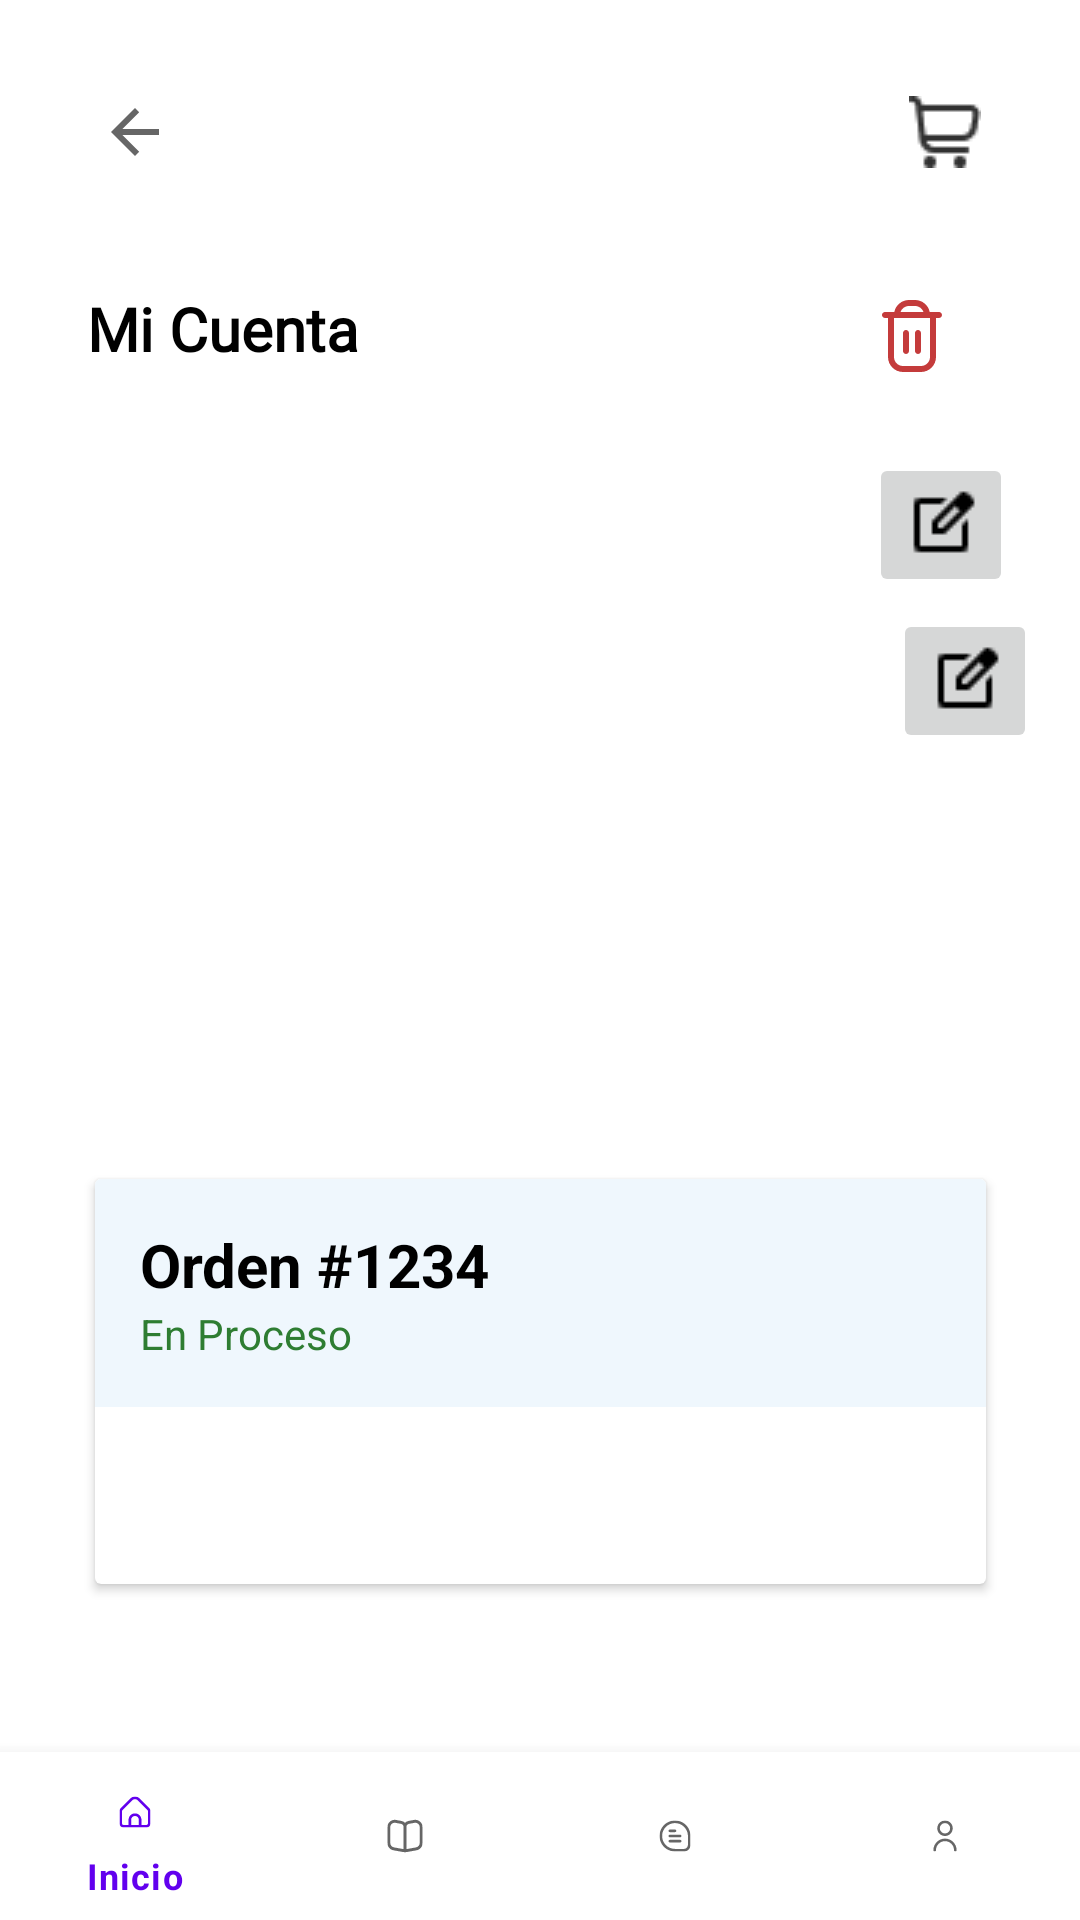

Point at icon controls on the screen. Image size 1080 x 1920, points as point (x, y).
Icono de eliminar: point (912, 336)
Icono de modificar información: point (941, 525), point (965, 681)
Ir al carrito: point (945, 132)
Volver hacia atrás: point (135, 132)
